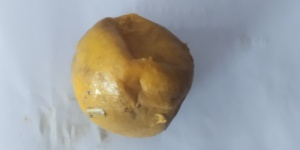BAD: (71, 13, 197, 138)
